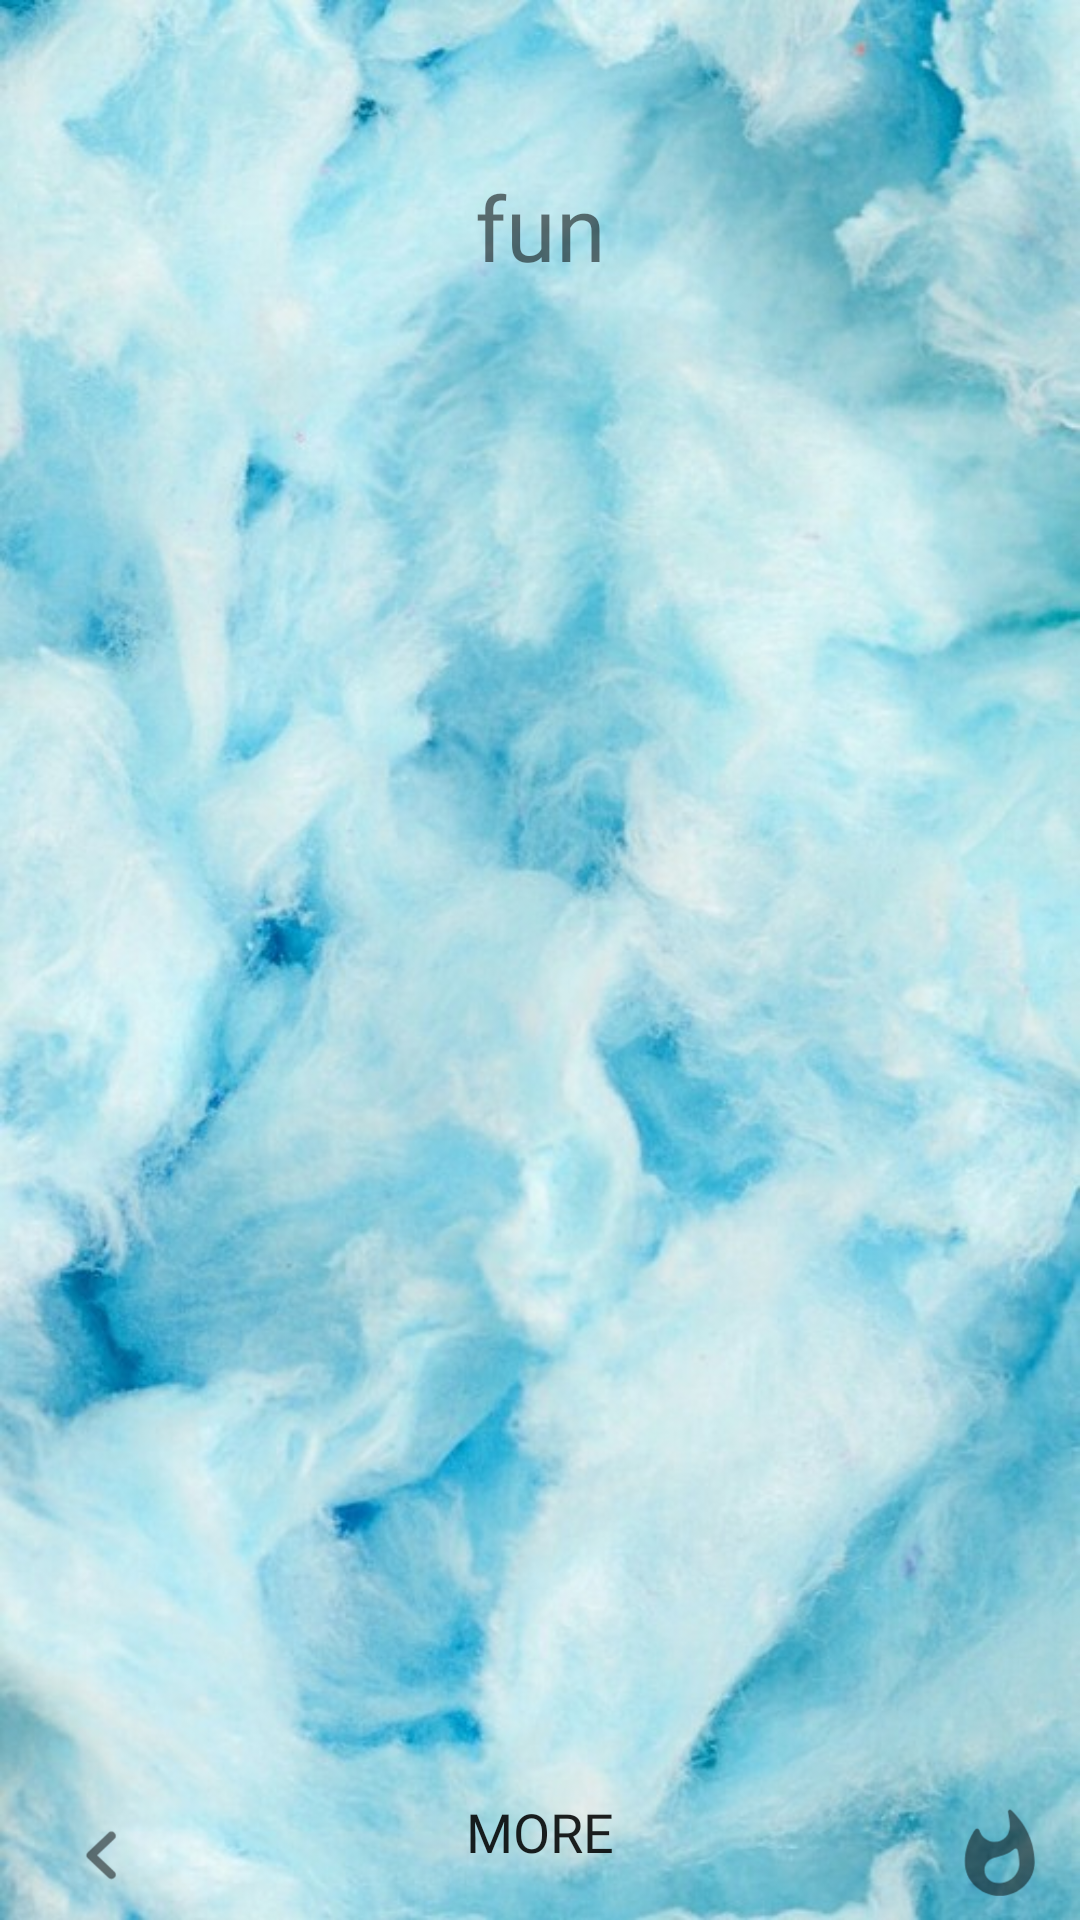

Point at icon controls on the screen. Image size 1080x1920, points as (x,y).
whatshot rounded: (988,1849)
